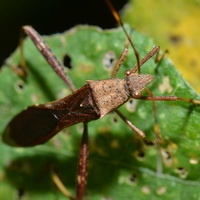insect: (0, 37, 82, 199), (84, 98, 199, 199), (121, 0, 199, 86), (43, 26, 126, 88), (141, 56, 199, 99)
